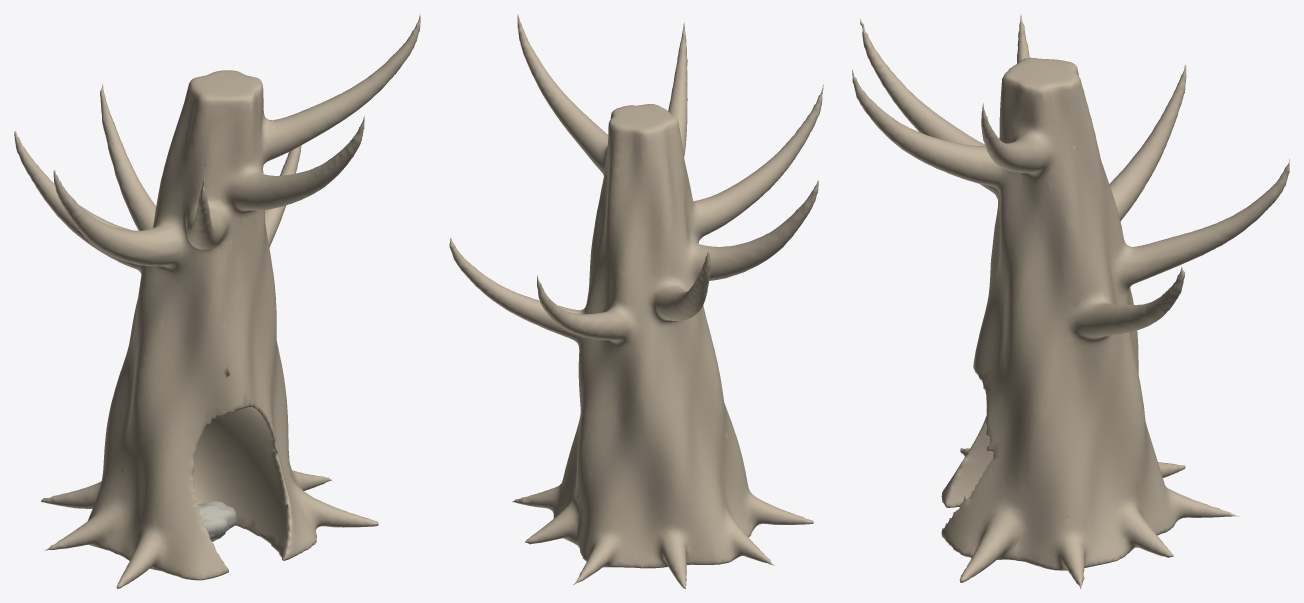
Rendered from woodland-landmarks.glb.
The picture shows the model from 3 angles, left to right: view 1: azimuth 30°, elevation 25°; view 2: azimuth 150°, elevation 25°; view 3: azimuth 270°, elevation 25°; orthographic projection. The views are drawn at different scales.
Parts seen in each view (by area): view 1: Hollow Oak · continuous trunk and roots, river_rock_2; view 2: Hollow Oak · continuous trunk and roots; view 3: Hollow Oak · continuous trunk and roots.
Boxes of the visible parts, x1,y1,x2,y2 form: Hollow Oak · continuous trunk and roots: [14, 14, 420, 588]; river_rock_2: [198, 500, 236, 540]; Hollow Oak · continuous trunk and roots: [449, 14, 823, 588]; Hollow Oak · continuous trunk and roots: [852, 14, 1289, 588].
Size of the model in its own units: 13.93 by 19.3 by 14.66.
